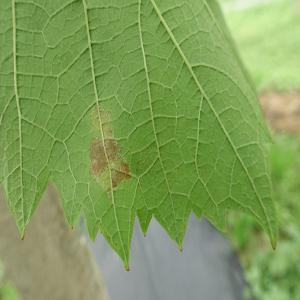Folha: (0, 0, 278, 271)
Fungo: (87, 104, 132, 198), (88, 135, 122, 181), (88, 104, 113, 138)
